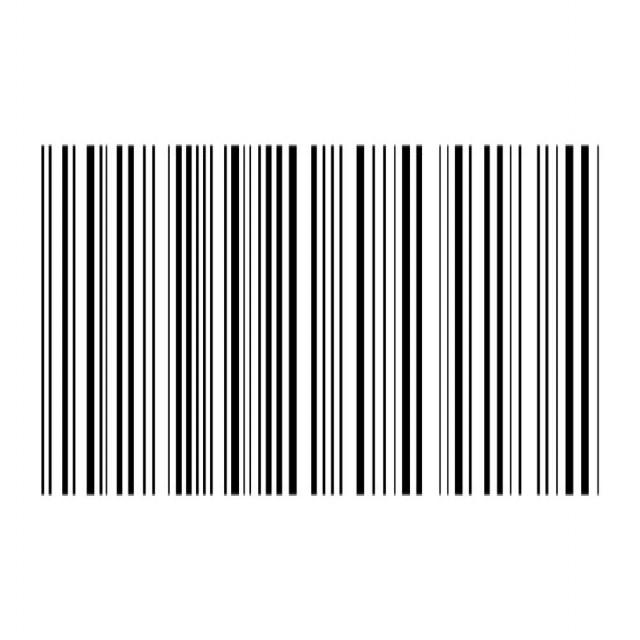Barkod: (34, 107, 612, 543)
